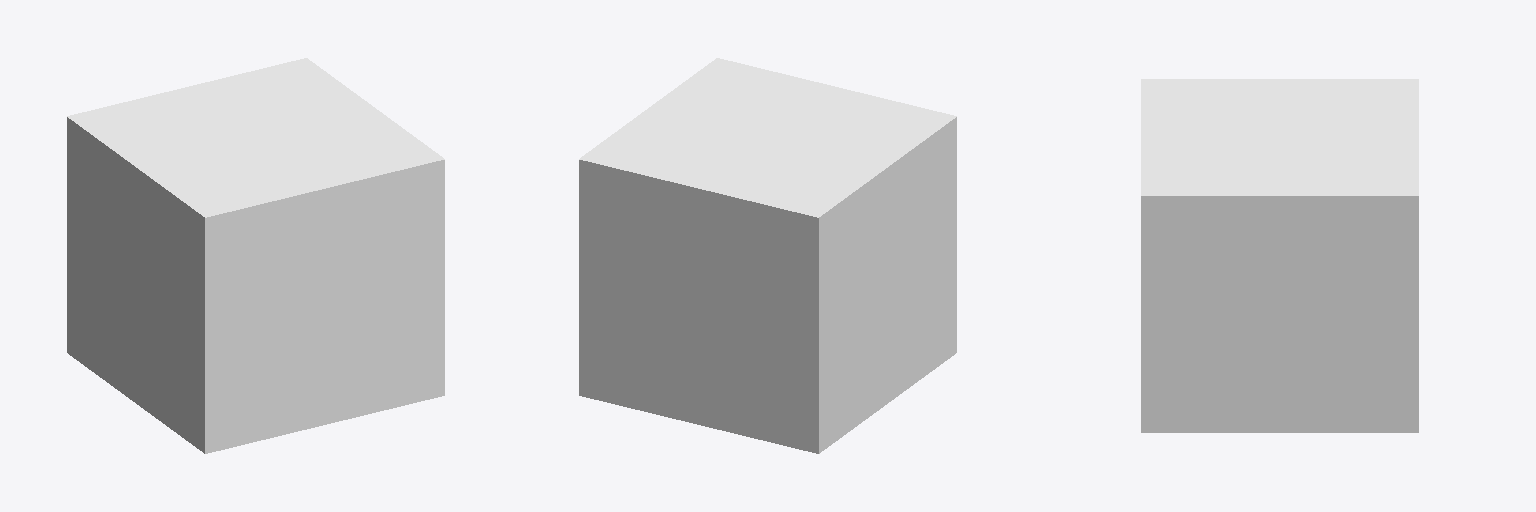
Rendered from basement_floor_gradient.obj.
The picture shows the model from 3 angles: view 1: azimuth 30°, elevation 25°; view 2: azimuth 150°, elevation 25°; view 3: azimuth 270°, elevation 25°; orthographic projection.
Bounding box in the file's own units: 100 × 94 × 100.